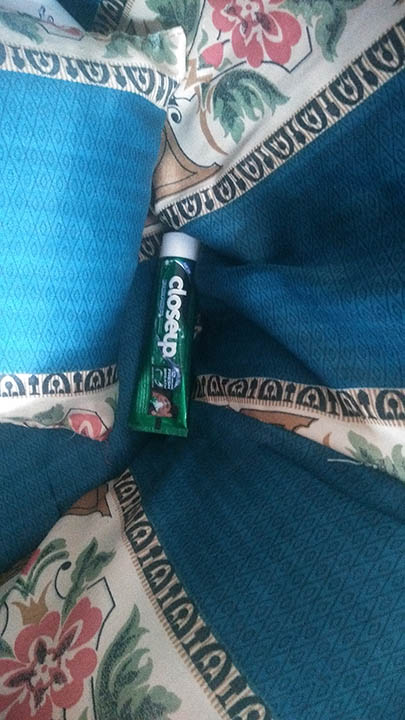Toothpaste-Closeup 3.04$: (130, 231, 212, 441)
